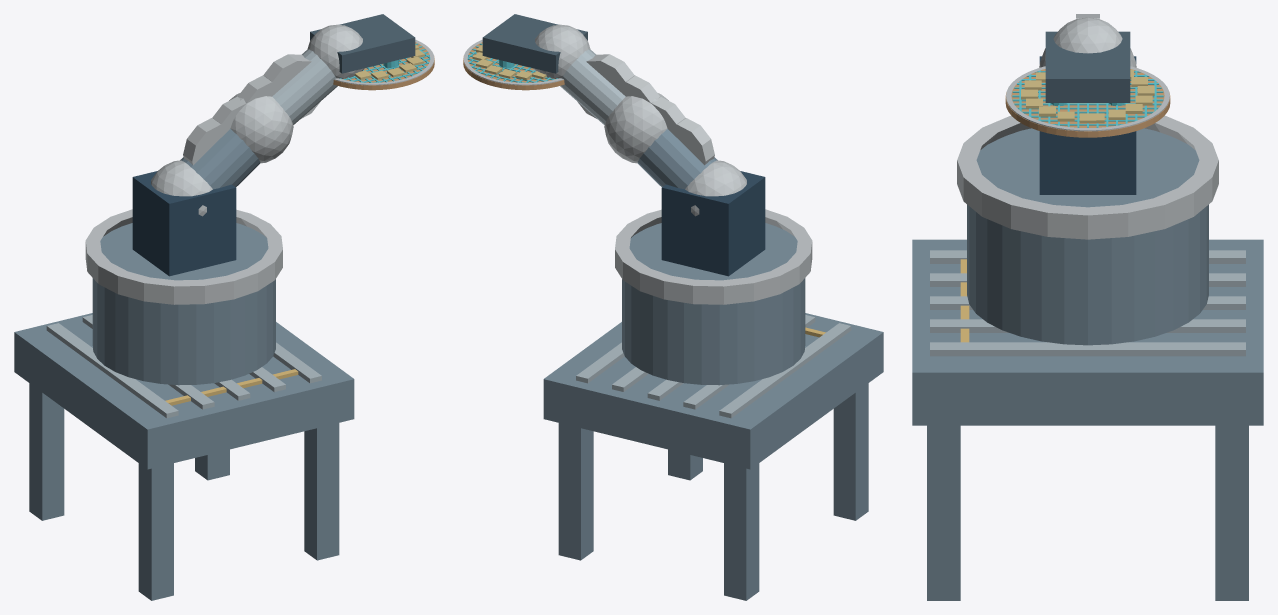
The model's file is 03_L77_AutomatedWaferHandlingRobot.glb.
The picture shows the model from 3 angles, left to right: view 1: azimuth 30°, elevation 25°; view 2: azimuth 150°, elevation 25°; view 3: azimuth 270°, elevation 25°; orthographic projection. The views are drawn at different scales.
Visible parts, largest first — view 1: AutomatedWaferHandlingRobot_Node_0000, AutomatedWaferHandlingRobot_Node_0011, AutomatedWaferHandlingRobot_Node_0013, AutomatedWaferHandlingRobot_Node_0012, AutomatedWaferHandlingRobot_Node_0007, AutomatedWaferHandlingRobot_Node_0009, AutomatedWaferHandlingRobot_Node_0006, AutomatedWaferHandlingRobot_Node_0024, AutomatedWaferHandlingRobot_Node_0016, AutomatedWaferHandlingRobot_Node_0014, AutomatedWaferHandlingRobot_Node_0017, AutomatedWaferHandlingRobot_Node_0001 (+11 smaller); view 2: AutomatedWaferHandlingRobot_Node_0000, AutomatedWaferHandlingRobot_Node_0011, AutomatedWaferHandlingRobot_Node_0013, AutomatedWaferHandlingRobot_Node_0012, AutomatedWaferHandlingRobot_Node_0006, AutomatedWaferHandlingRobot_Node_0008, AutomatedWaferHandlingRobot_Node_0007, AutomatedWaferHandlingRobot_Node_0024, AutomatedWaferHandlingRobot_Node_0016, AutomatedWaferHandlingRobot_Node_0014, AutomatedWaferHandlingRobot_Node_0017, AutomatedWaferHandlingRobot_Node_0001 (+10 smaller); view 3: AutomatedWaferHandlingRobot_Node_0000, AutomatedWaferHandlingRobot_Node_0011, AutomatedWaferHandlingRobot_Node_0012, AutomatedWaferHandlingRobot_Node_0008, AutomatedWaferHandlingRobot_Node_0009, AutomatedWaferHandlingRobot_Node_0013, AutomatedWaferHandlingRobot_Node_0024, AutomatedWaferHandlingRobot_Node_0005, AutomatedWaferHandlingRobot_Node_0027, AutomatedWaferHandlingRobot_Node_0019, AutomatedWaferHandlingRobot_Node_0004, AutomatedWaferHandlingRobot_Node_0028 (+4 smaller).
Part boxes in pixels (x1,y1,x2,y2): AutomatedWaferHandlingRobot_Node_0000: [14, 313, 354, 469]; AutomatedWaferHandlingRobot_Node_0011: [92, 223, 275, 385]; AutomatedWaferHandlingRobot_Node_0013: [132, 171, 236, 276]; AutomatedWaferHandlingRobot_Node_0012: [85, 209, 282, 304]; AutomatedWaferHandlingRobot_Node_0007: [138, 463, 173, 600]; AutomatedWaferHandlingRobot_Node_0009: [304, 423, 339, 560]; AutomatedWaferHandlingRobot_Node_0006: [29, 383, 64, 520]; AutomatedWaferHandlingRobot_Node_0024: [310, 14, 415, 73]; AutomatedWaferHandlingRobot_Node_0016: [229, 93, 293, 163]; AutomatedWaferHandlingRobot_Node_0014: [180, 129, 260, 189]; AutomatedWaferHandlingRobot_Node_0017: [272, 49, 337, 124]; AutomatedWaferHandlingRobot_Node_0001: [46, 323, 178, 418]; AutomatedWaferHandlingRobot_Node_0000: [543, 313, 883, 469]; AutomatedWaferHandlingRobot_Node_0011: [622, 223, 805, 385]; AutomatedWaferHandlingRobot_Node_0013: [661, 171, 765, 276]; AutomatedWaferHandlingRobot_Node_0012: [615, 209, 812, 304]; AutomatedWaferHandlingRobot_Node_0006: [724, 463, 759, 600]; AutomatedWaferHandlingRobot_Node_0008: [558, 423, 593, 560]; AutomatedWaferHandlingRobot_Node_0007: [833, 383, 868, 520]; AutomatedWaferHandlingRobot_Node_0024: [482, 14, 587, 73]; AutomatedWaferHandlingRobot_Node_0016: [604, 93, 668, 163]; AutomatedWaferHandlingRobot_Node_0014: [637, 129, 717, 189]; AutomatedWaferHandlingRobot_Node_0017: [560, 49, 625, 124]; AutomatedWaferHandlingRobot_Node_0001: [719, 323, 851, 418]; AutomatedWaferHandlingRobot_Node_0000: [912, 239, 1263, 425]; AutomatedWaferHandlingRobot_Node_0011: [967, 128, 1208, 345]; AutomatedWaferHandlingRobot_Node_0012: [957, 115, 1218, 239]; AutomatedWaferHandlingRobot_Node_0008: [1215, 425, 1248, 600]; AutomatedWaferHandlingRobot_Node_0009: [927, 425, 960, 600]; AutomatedWaferHandlingRobot_Node_0013: [1039, 56, 1136, 194]; AutomatedWaferHandlingRobot_Node_0024: [1045, 31, 1130, 102]; AutomatedWaferHandlingRobot_Node_0005: [930, 342, 1245, 356]; AutomatedWaferHandlingRobot_Node_0027: [1005, 69, 1170, 137]; AutomatedWaferHandlingRobot_Node_0019: [1053, 17, 1122, 53]; AutomatedWaferHandlingRobot_Node_0004: [930, 319, 1245, 332]; AutomatedWaferHandlingRobot_Node_0028: [1006, 66, 1169, 131].
Bounding box in the file's own units: 2.17 × 2.81 × 1.45.
